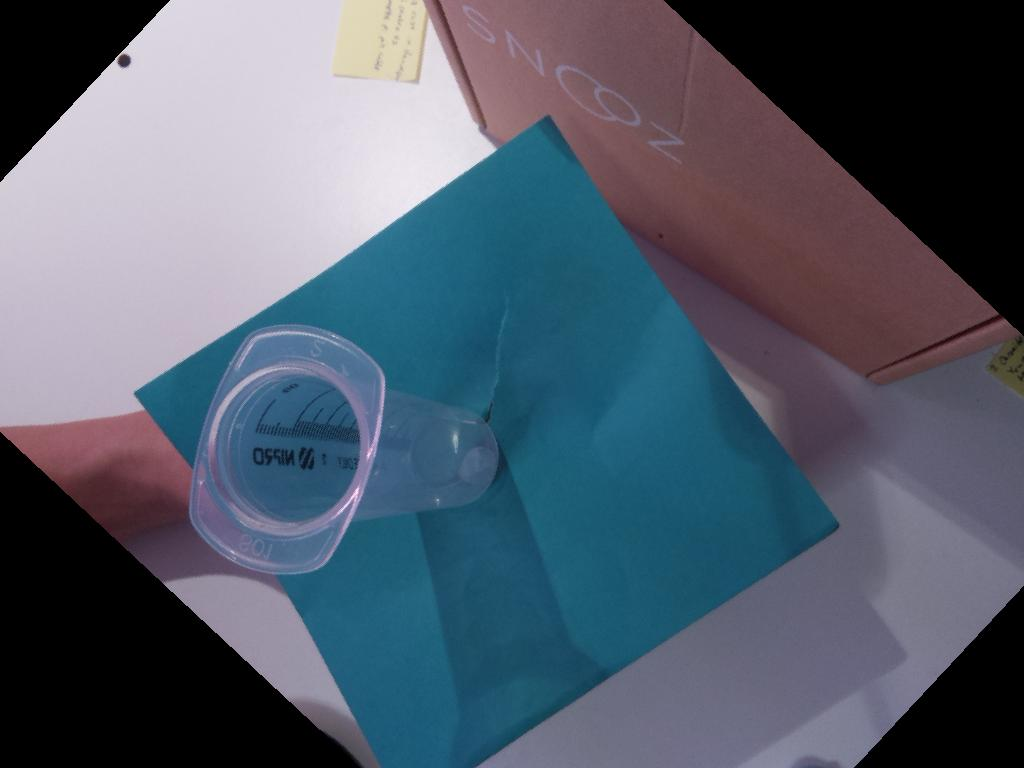clean: (189, 322, 386, 574)
